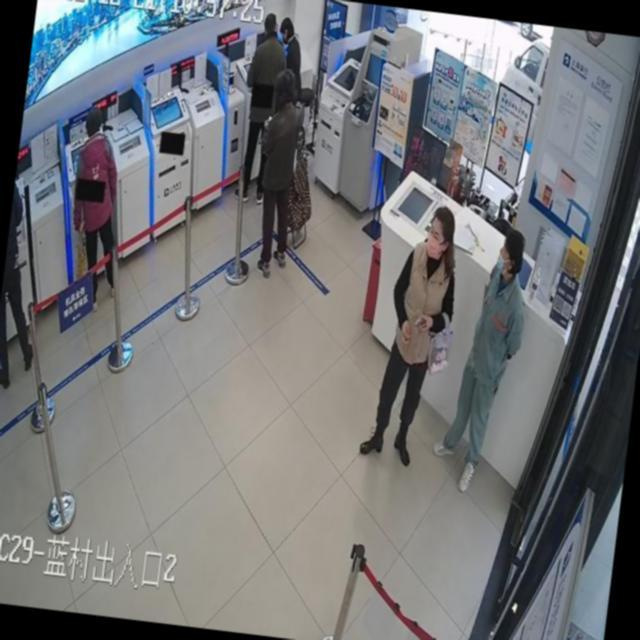person: (428, 222, 536, 496), (360, 200, 464, 469), (59, 106, 135, 312), (244, 73, 310, 280), (0, 163, 55, 389), (232, 9, 291, 206), (270, 14, 310, 100), (270, 15, 310, 99)
